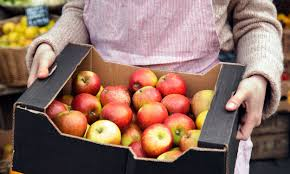apple: (144, 124, 174, 154), (162, 113, 195, 140), (87, 119, 117, 147), (58, 111, 87, 138), (71, 94, 101, 120), (102, 102, 133, 125), (74, 69, 100, 95), (125, 71, 158, 91), (132, 84, 159, 106), (137, 104, 168, 123), (98, 86, 130, 104), (160, 95, 192, 111), (159, 76, 183, 93)
